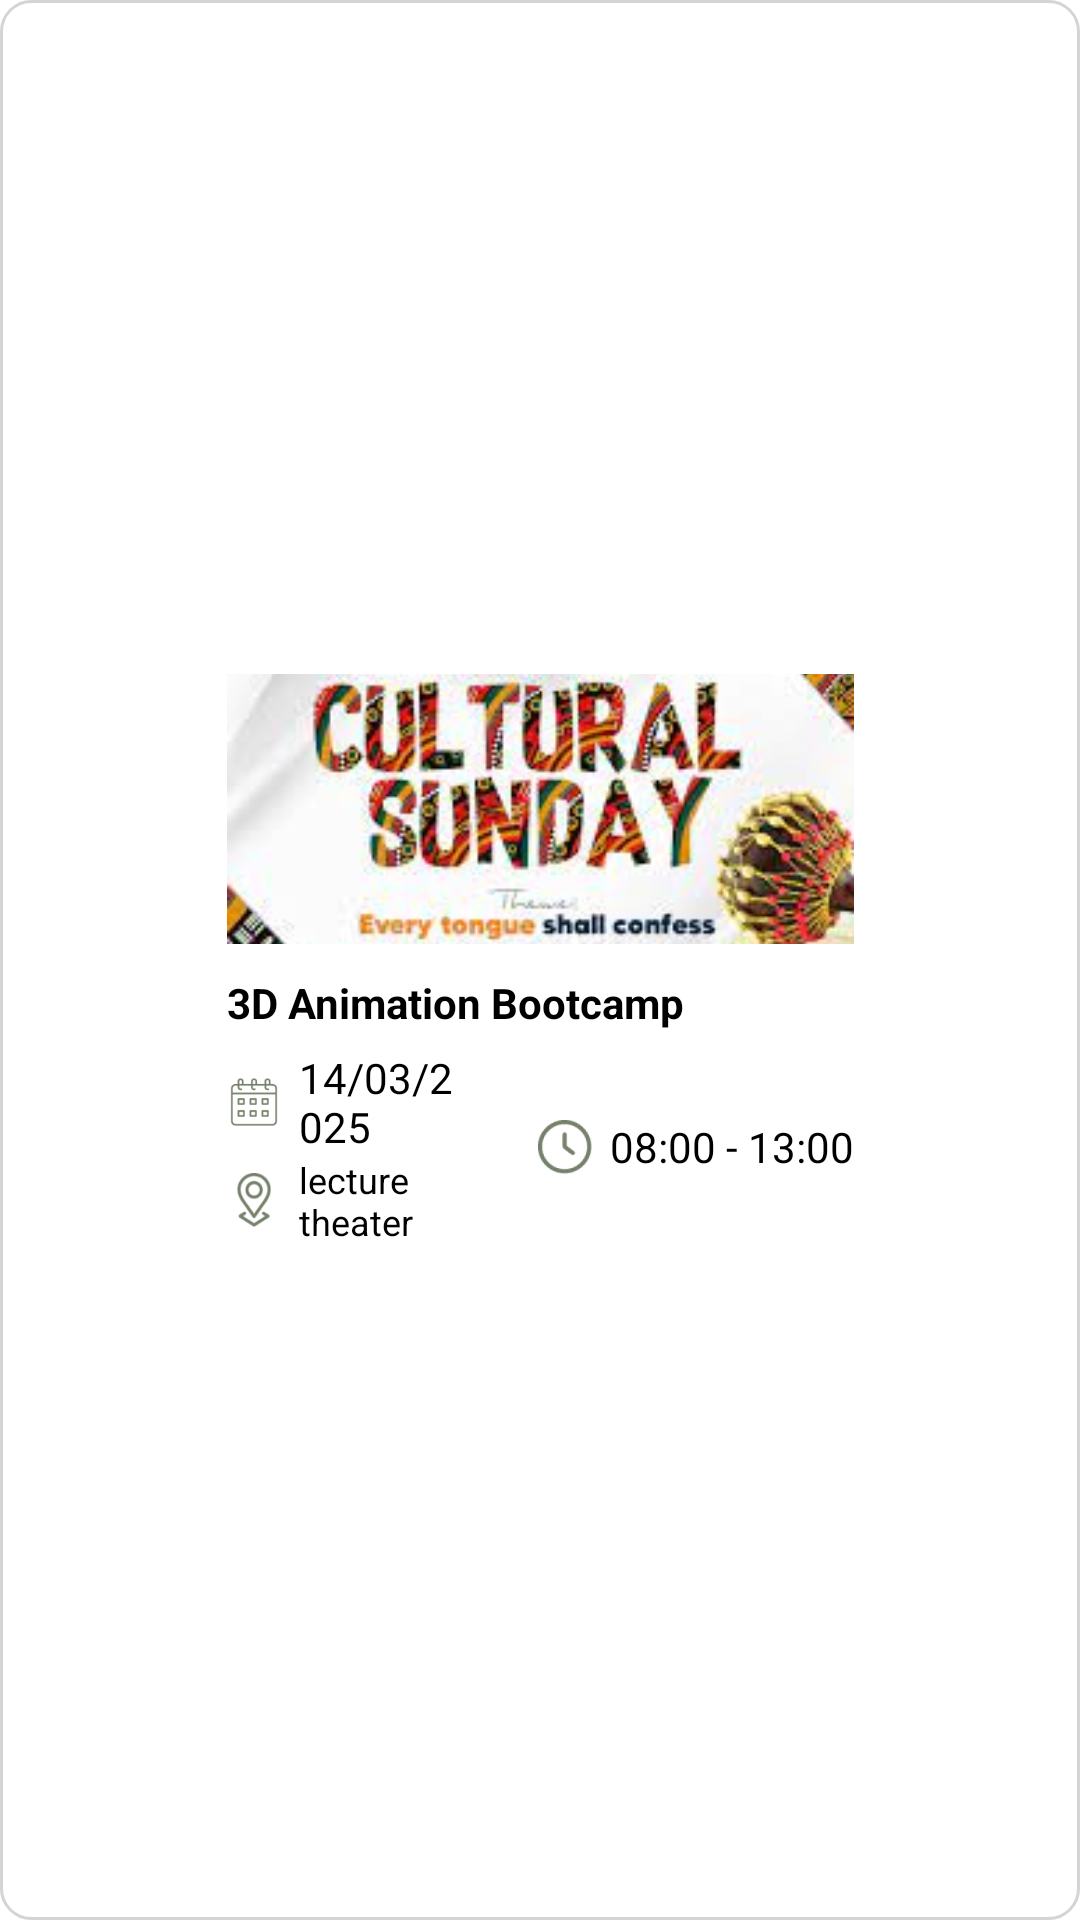

Icon bounding boxes for this 1080px×1920px phone screenshot, format Rect(x1, y1, x2, y2):
calendar: Rect(231, 1078, 277, 1126)
location: Rect(237, 1173, 271, 1227)
time: Rect(538, 1120, 592, 1174)
